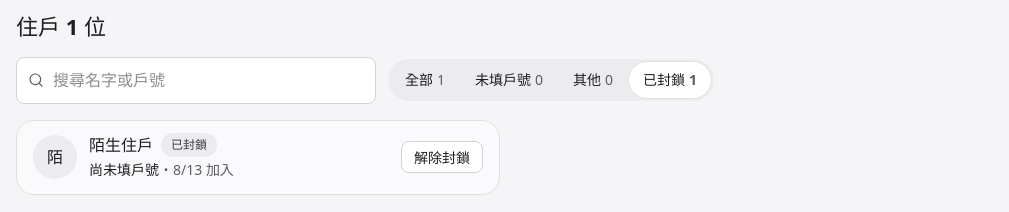
Test: ResidentMemberManagementApp › lets the organizer unblock a resident
The width and height of the screenshot is (1009, 212).
Click the button with aria-label "解除封鎖 陌生住戶" at [442, 157], box x1=401 y1=141 x2=483 y2=173
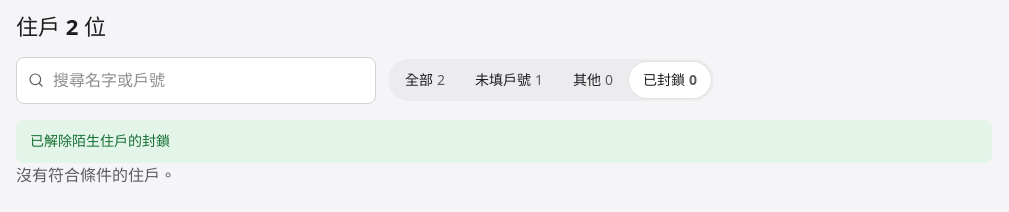
Now the text "已解除陌生住戶的封鎖" is shown, box x1=30 y1=130 x2=170 y2=153
